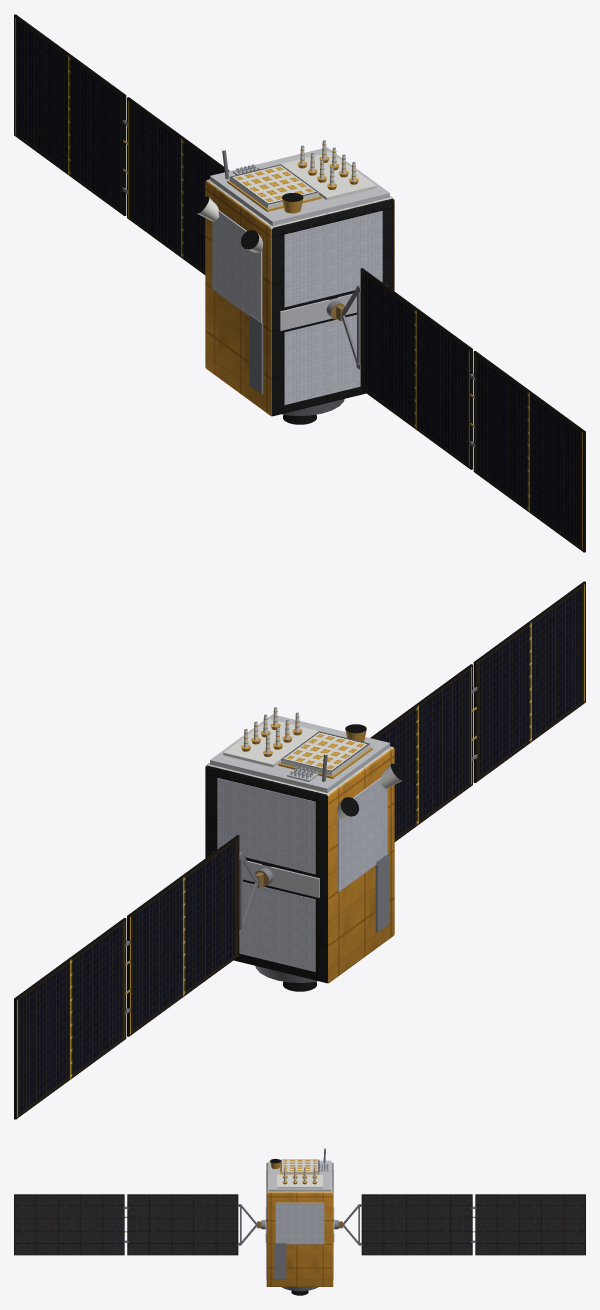
The model's file is navic-nvs.glb.
The picture shows the model from 3 angles, top to bottom: view 1: azimuth 30°, elevation 25°; view 2: azimuth 150°, elevation 25°; view 3: azimuth 270°, elevation 25°; orthographic projection. The views are drawn at different scales.
Visible parts, largest first — view 1: bus, wing-Y, wing+Y, payload_deck; view 2: bus, wing+Y, wing-Y, payload_deck; view 3: wing+Y, wing-Y, bus, payload_deck.
Boxes of the visible parts, x1,y1,x2,y2 form: bus: [196, 179, 394, 424]; wing-Y: [336, 268, 585, 552]; wing+Y: [14, 14, 229, 274]; payload_deck: [210, 140, 389, 225]; bus: [205, 746, 403, 991]; wing+Y: [14, 835, 263, 1119]; wing-Y: [370, 581, 585, 841]; payload_deck: [210, 707, 389, 792]; wing+Y: [338, 1194, 585, 1255]; wing-Y: [14, 1194, 261, 1255]; bus: [265, 1162, 334, 1295]; payload_deck: [268, 1148, 331, 1191].
Size of the model in its own units: 1.92 by 3.32 by 13.11.
Materials: 18 (7 with a texture image).
